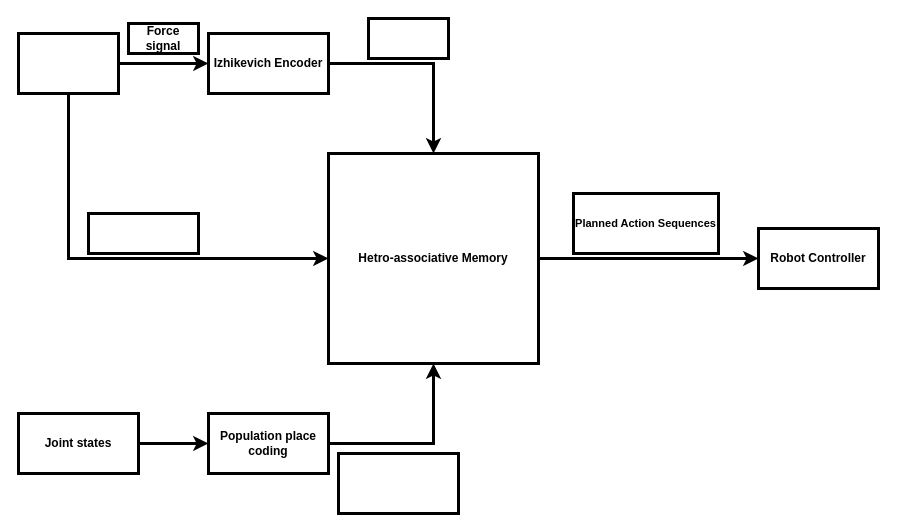
Some shapes in this 897 by 532 pixel diagram are drawn without their labels. The shapes that lost their labels are listed below. From the top down, each one's centre as x and y in pixels, then its label:
At (408,38): "Spike trains".
At (68,63): "Skin".
At (143,233): "Rotation matrices".
At (398,483): "Binary Joint States".
